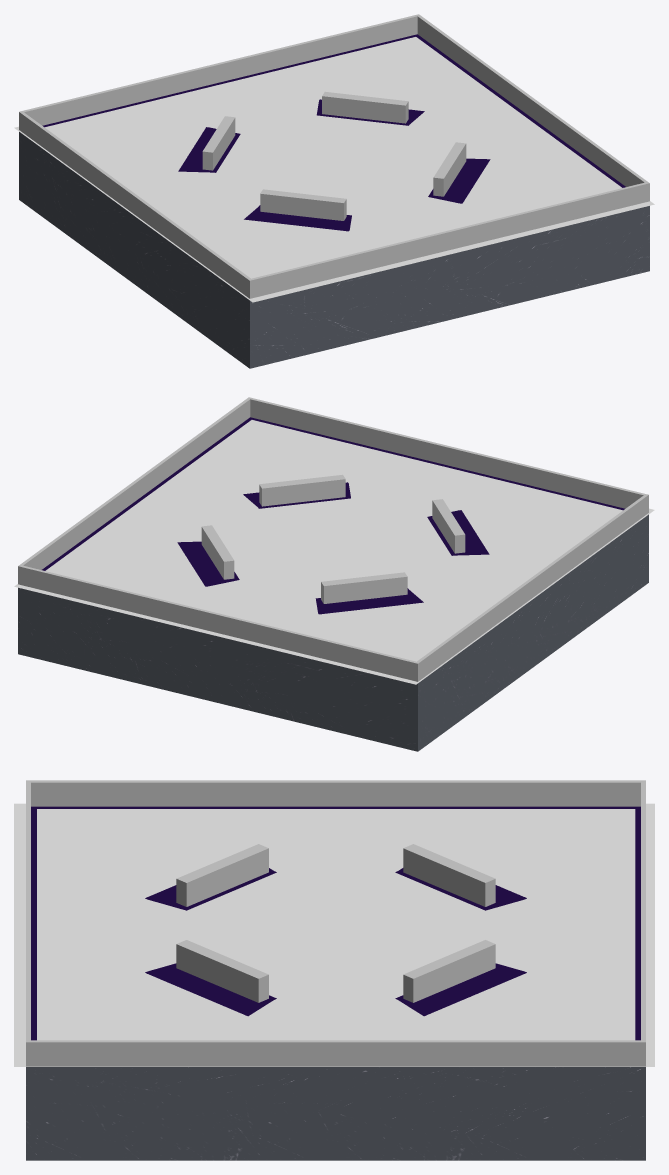
The model's file is Battle_Stage 21.fbx.
The picture shows the model from 3 angles, top to bottom: view 1: azimuth 30°, elevation 25°; view 2: azimuth 150°, elevation 25°; view 3: azimuth 270°, elevation 25°; orthographic projection. The views are drawn at different scales.
Parts seen in each view (by area): view 1: Plane.125, NY_Platform_Cube.006, NY_Platform_Cube.007, NY_Platform_Cube.008; view 2: Plane.125, NY_Platform_Cube.006, NY_Platform_Cube.007, NY_Platform_Cube.008; view 3: Plane.125, NY_Platform_Cube.006, NY_Platform_Cube.007, NY_Platform_Cube.008.
Part boxes in pixels (left/top/right/bottom): Plane.125: left=14, top=37, right=654, bottom=302; NY_Platform_Cube.006: left=19, top=132, right=649, bottom=368; NY_Platform_Cube.007: left=19, top=14, right=649, bottom=298; NY_Platform_Cube.008: left=42, top=34, right=625, bottom=231; Plane.125: left=14, top=420, right=654, bottom=684; NY_Platform_Cube.006: left=18, top=514, right=648, bottom=751; NY_Platform_Cube.007: left=18, top=397, right=648, bottom=681; NY_Platform_Cube.008: left=42, top=417, right=624, bottom=614; Plane.125: left=14, top=803, right=654, bottom=1066; NY_Platform_Cube.006: left=26, top=1067, right=645, bottom=1160; NY_Platform_Cube.007: left=26, top=780, right=645, bottom=1066; NY_Platform_Cube.008: left=31, top=806, right=640, bottom=1040.
Size of the model in its own units: 6033 by 1262 by 6205.
